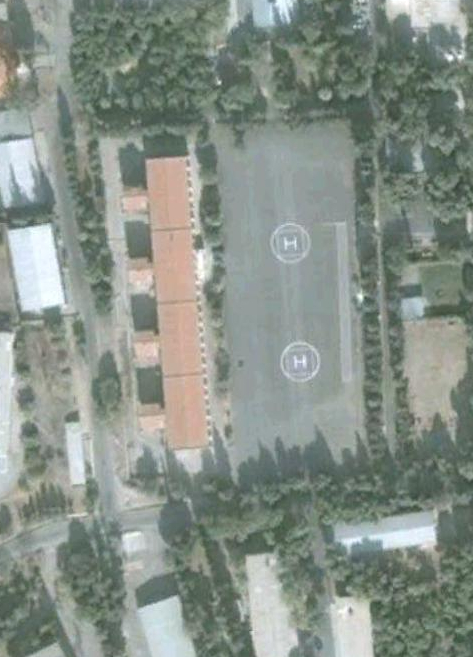heliport: (281, 233, 300, 252), (291, 352, 308, 371)
